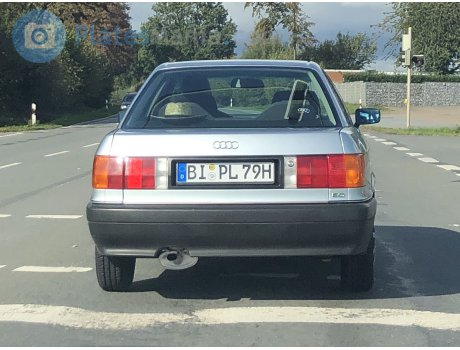License Plates: (189, 161, 274, 182)
